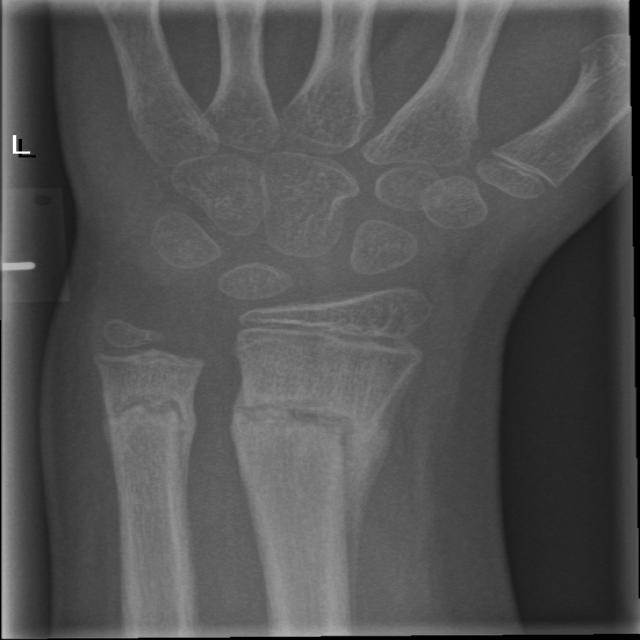radius fracture: (213, 353, 425, 569)
ulna fracture: (82, 352, 209, 524)
